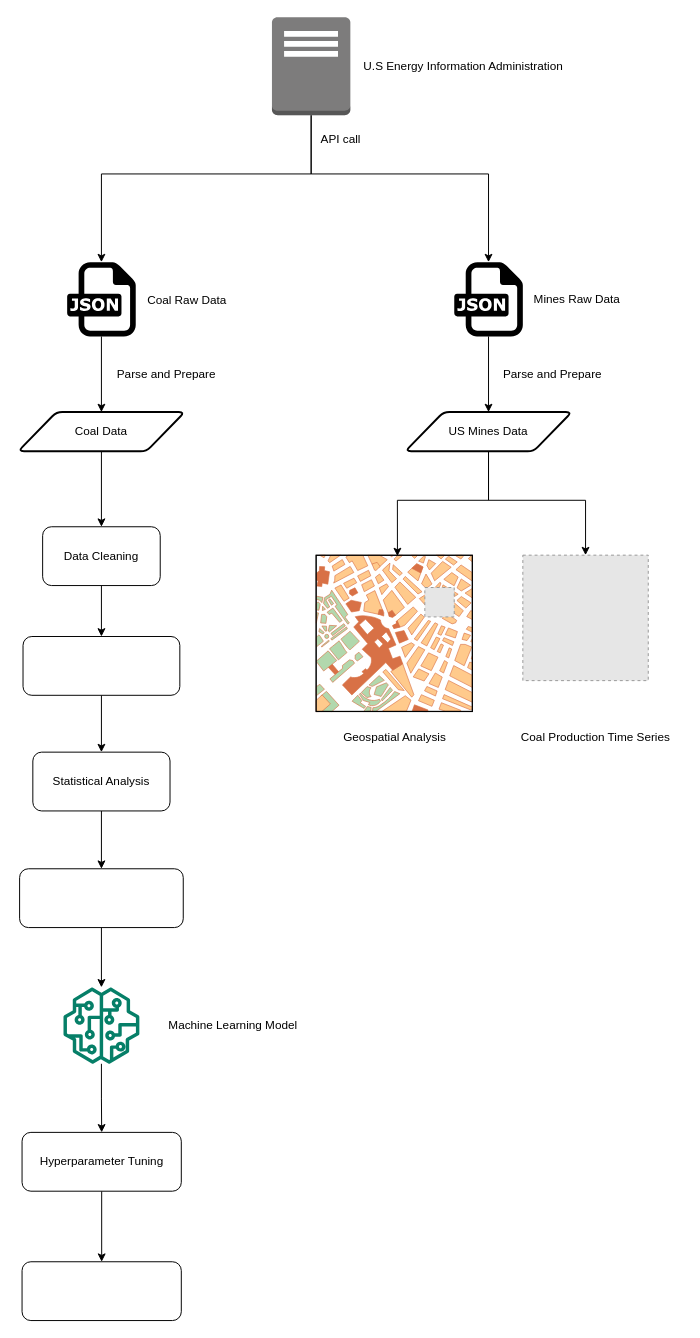
Some shapes in this 700 by 1338 pixel diagram are drawn without their labels. Grey dashed boxes stand in for pictures. Each missing label, with the box of its shape:
Deployment: (21, 1261, 181, 1321)
Feature Engineering: (22, 636, 180, 695)
Transformation Pipelines: (19, 868, 183, 928)
